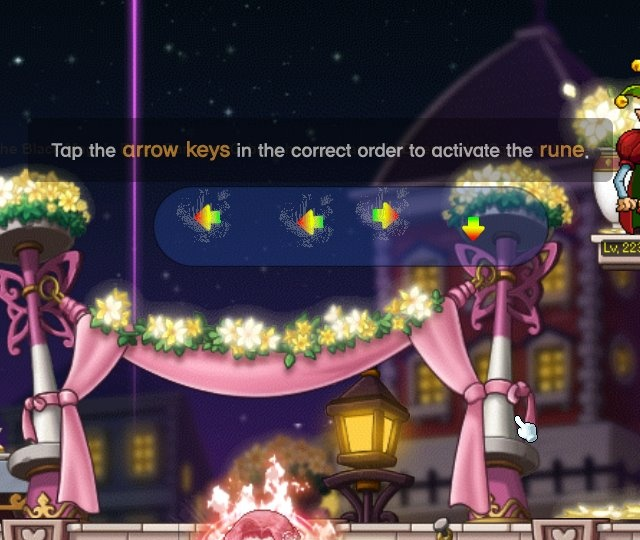rune_box: (146, 179, 559, 276)
